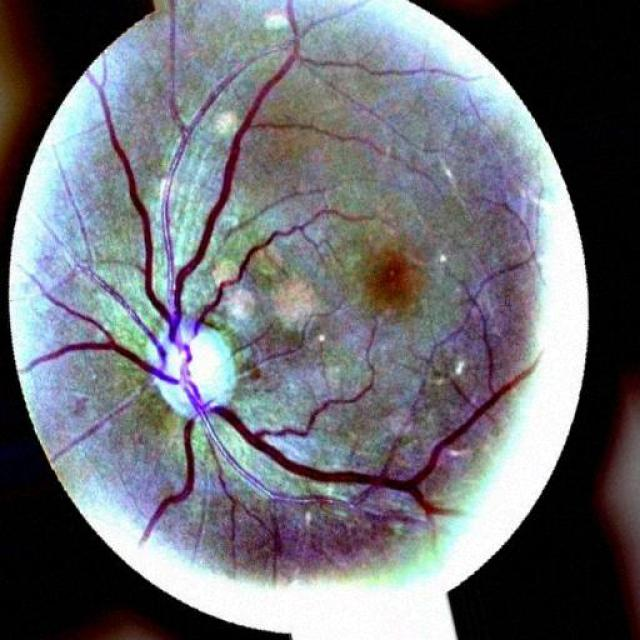Macula: (362, 248, 421, 310)
Optic Disk: (148, 316, 236, 416)
